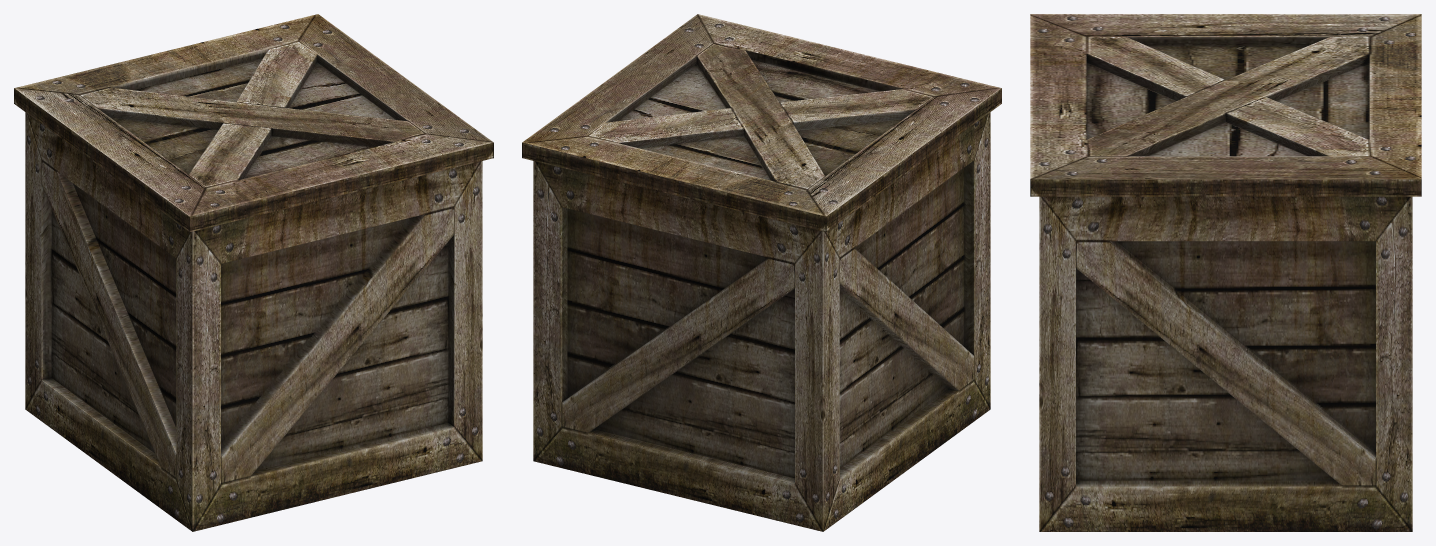
Rendered from crateLarge.dae.
3 views of the same model, side by side, from view 1: azimuth 30°, elevation 25°; view 2: azimuth 150°, elevation 25°; view 3: azimuth 270°, elevation 25° (orthographic). The views are drawn at different scales.
Parts seen in each view (by area): view 1: crateLarge; view 2: crateLarge; view 3: crateLarge.
Boxes of the visible parts, left/top/right/bottom form: crateLarge: left=14, top=14, right=493, bottom=531; crateLarge: left=522, top=14, right=1001, bottom=531; crateLarge: left=1030, top=14, right=1421, bottom=531.
Bounding box in the file's own units: 1.34 × 1.34 × 1.34.
Materials: 1 (1 with a texture image).
